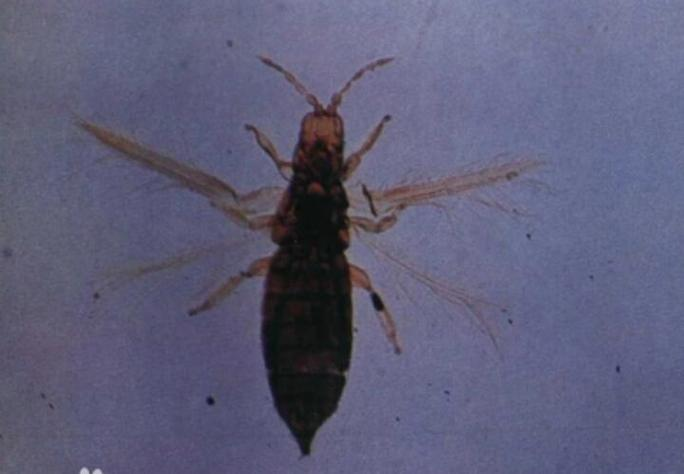Thripidae: (78, 53, 536, 460)
